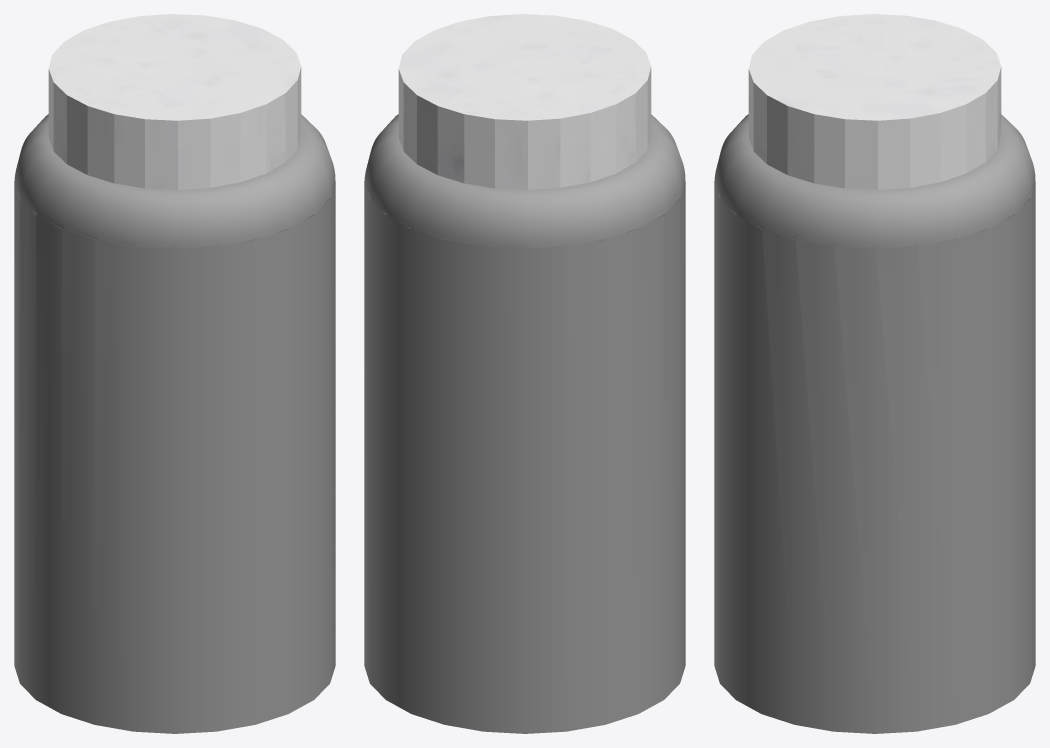
File: RemedioCinza.dae
3 views of the same model, side by side, from view 1: azimuth 30°, elevation 25°; view 2: azimuth 150°, elevation 25°; view 3: azimuth 270°, elevation 25° (orthographic).
Parts seen in each view (by area): view 1: instance_0 (×2); view 2: instance_0 (×2); view 3: instance_0 (×2).
Part boxes in pixels (x1,y1,x2,y2): instance_0 (×2): (14, 14, 335, 733); instance_0 (×2): (364, 14, 685, 733); instance_0 (×2): (714, 14, 1035, 733).
Bounding box in the file's own units: 1.25 × 1.25 × 2.58.
Materials: 2 (1 with a texture image).
